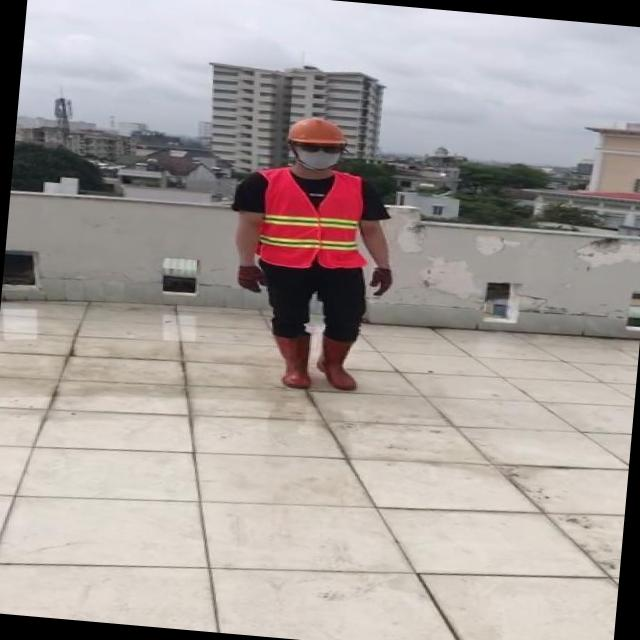hard_hat: (284, 114, 348, 148)
safety_vest: (254, 166, 370, 272)
vehicle: (212, 106, 418, 412)
work_boots: (268, 332, 316, 389), (313, 332, 357, 390)
